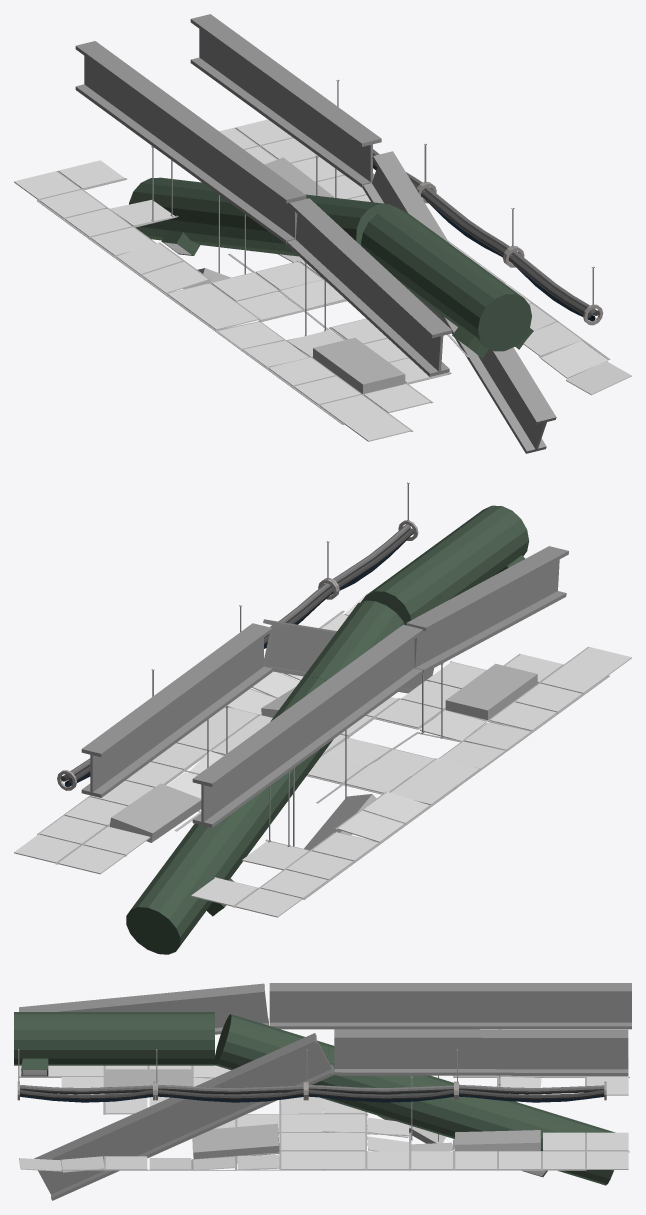
Rendered from shortHallwayDestroyedVariantB.fbx.
3 views of the same model, one above another, from view 1: azimuth 30°, elevation 25°; view 2: azimuth 150°, elevation 25°; view 3: azimuth 270°, elevation 25° (orthographic). The views are drawn at different scales.
Parts seen in each view (by area): view 1: Plane.496; view 2: Plane.496; view 3: Plane.496.
Part boxes in pixels (box(x1,y1,x2,y2)): Plane.496: box(14, 14, 631, 453); Plane.496: box(14, 482, 631, 954); Plane.496: box(14, 983, 631, 1200).
Size of the model in its own units: 1269 by 907 by 2952.
